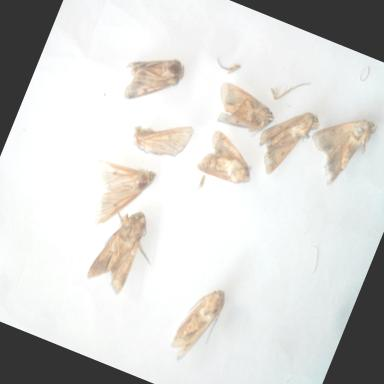abw: (78, 196, 170, 306), (293, 97, 384, 198), (68, 146, 160, 243), (243, 91, 326, 188), (160, 274, 236, 374), (114, 38, 192, 118), (203, 73, 285, 146), (191, 121, 268, 196), (124, 102, 198, 168)
